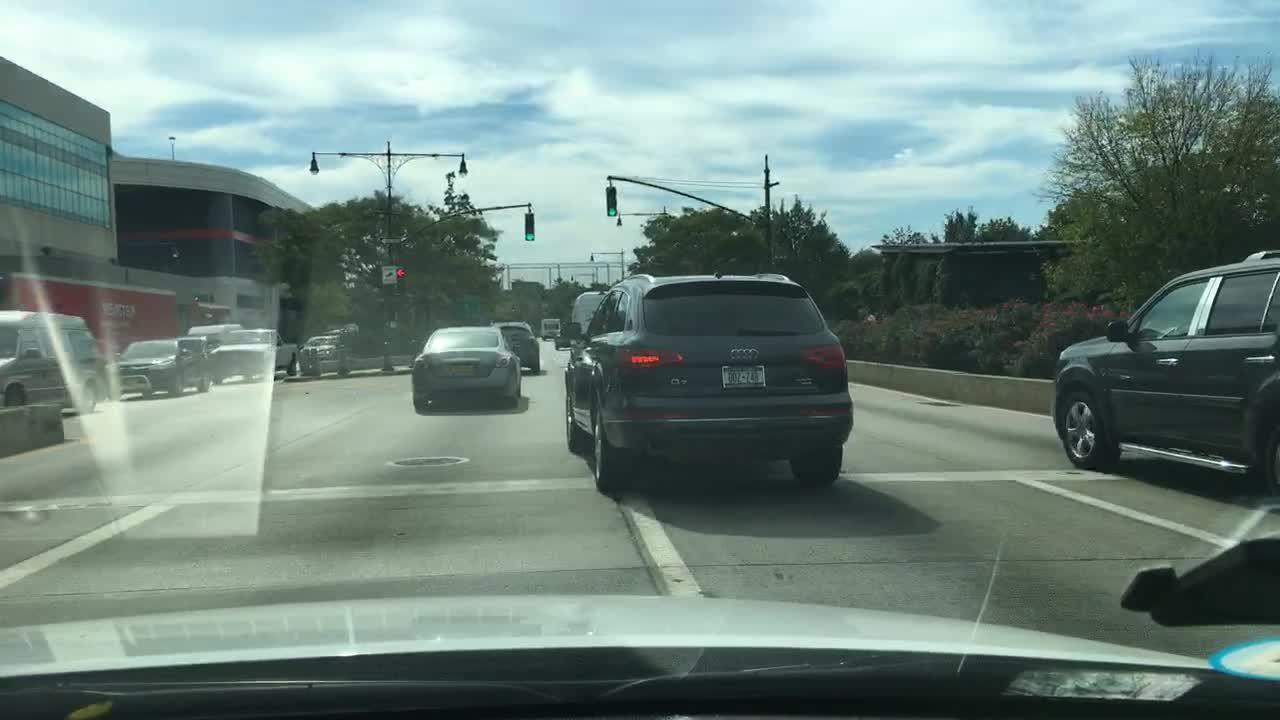Audi: (727, 341, 761, 361)
